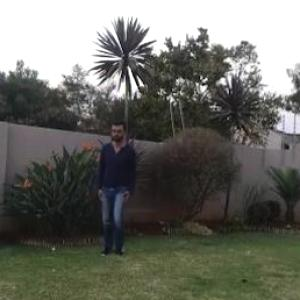follow: (94, 115, 137, 261)
